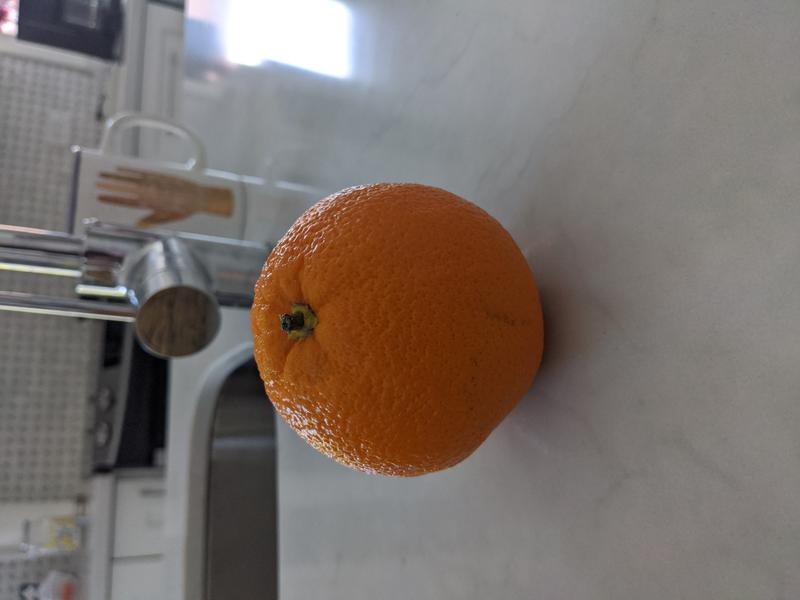orange: (250, 183, 545, 477)
